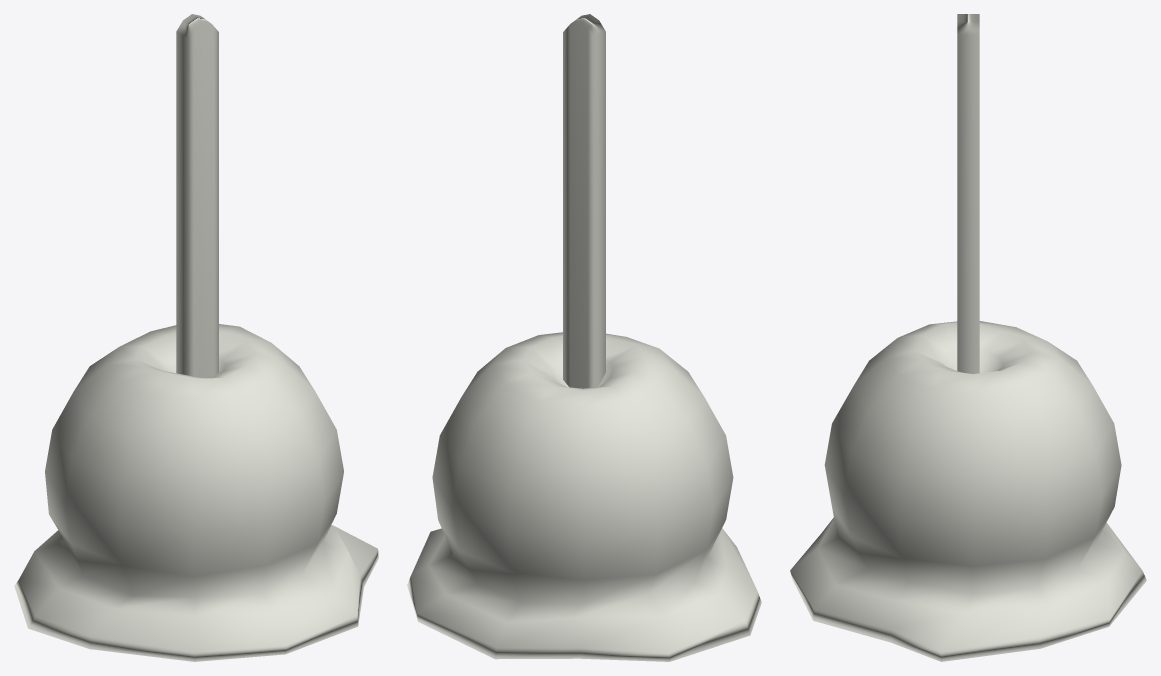
File: CarmelApple.fbx
3 renders of one model, left to right at view 1: azimuth 30°, elevation 25°; view 2: azimuth 150°, elevation 25°; view 3: azimuth 270°, elevation 25°, orthographic.
Parts seen in each view (by area): view 1: node_id34, node_id36; view 2: node_id34, node_id36; view 3: node_id34, node_id36.
Boxes of the visible parts, x1,y1,x2,y2 form: node_id34: (14, 324, 378, 661); node_id36: (176, 14, 218, 378); node_id34: (407, 332, 761, 661); node_id36: (563, 14, 605, 388); node_id34: (790, 321, 1146, 661); node_id36: (957, 14, 979, 373).
Size of the model in its own units: 0.3138 by 0.512 by 0.2921.
2 materials, 2 textured.
